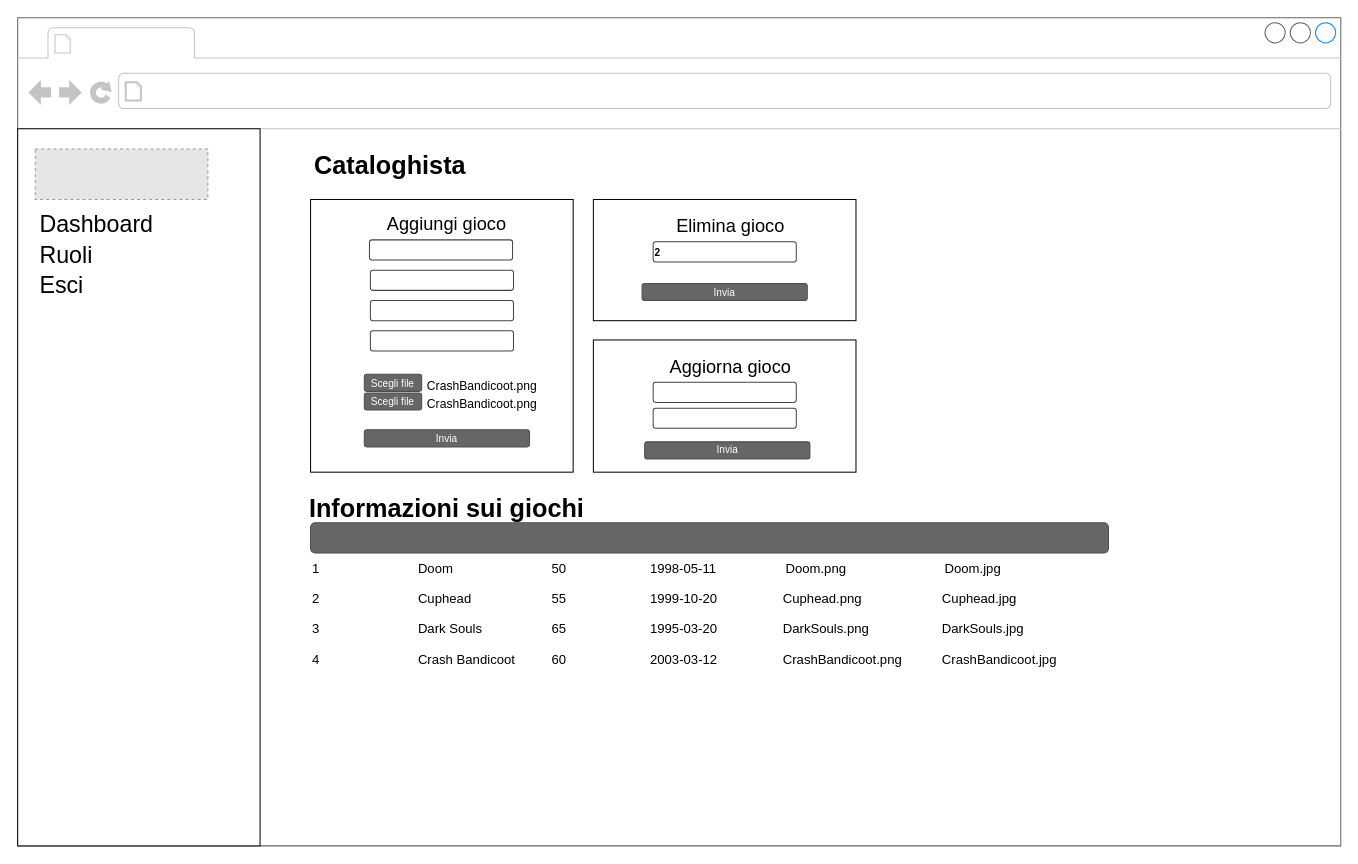
Some shapes in this 1358 by 864 pixel diagram are drawn without their labels. Grey dashed boxes stand in for pictures. The shapes that lost their labels are listed below. From the top down, each one's centre as x and y in pixels, then its label:
At point 133,42: "Page 1".
At point 274,91: "https://www.default.com".
At point 709,537: "ID Nome Prezzo Rilascio Cover Landscape".
